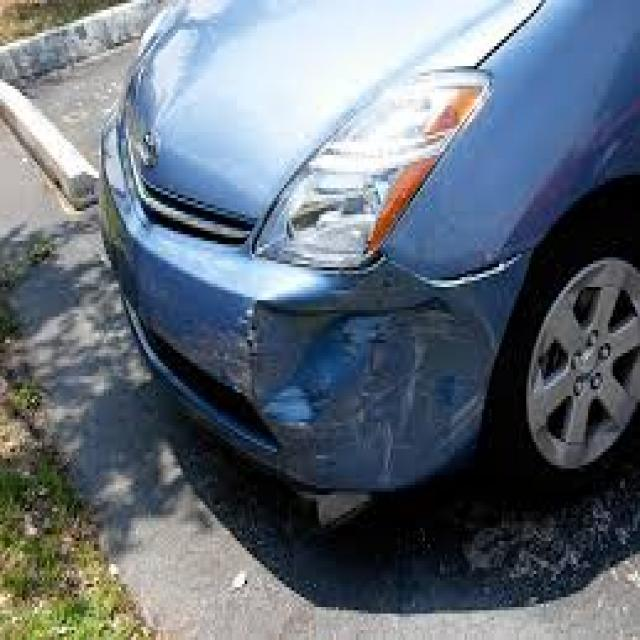minor: (254, 213, 488, 507)
